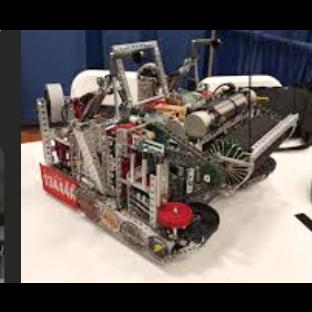Robot: (35, 38, 306, 264)
